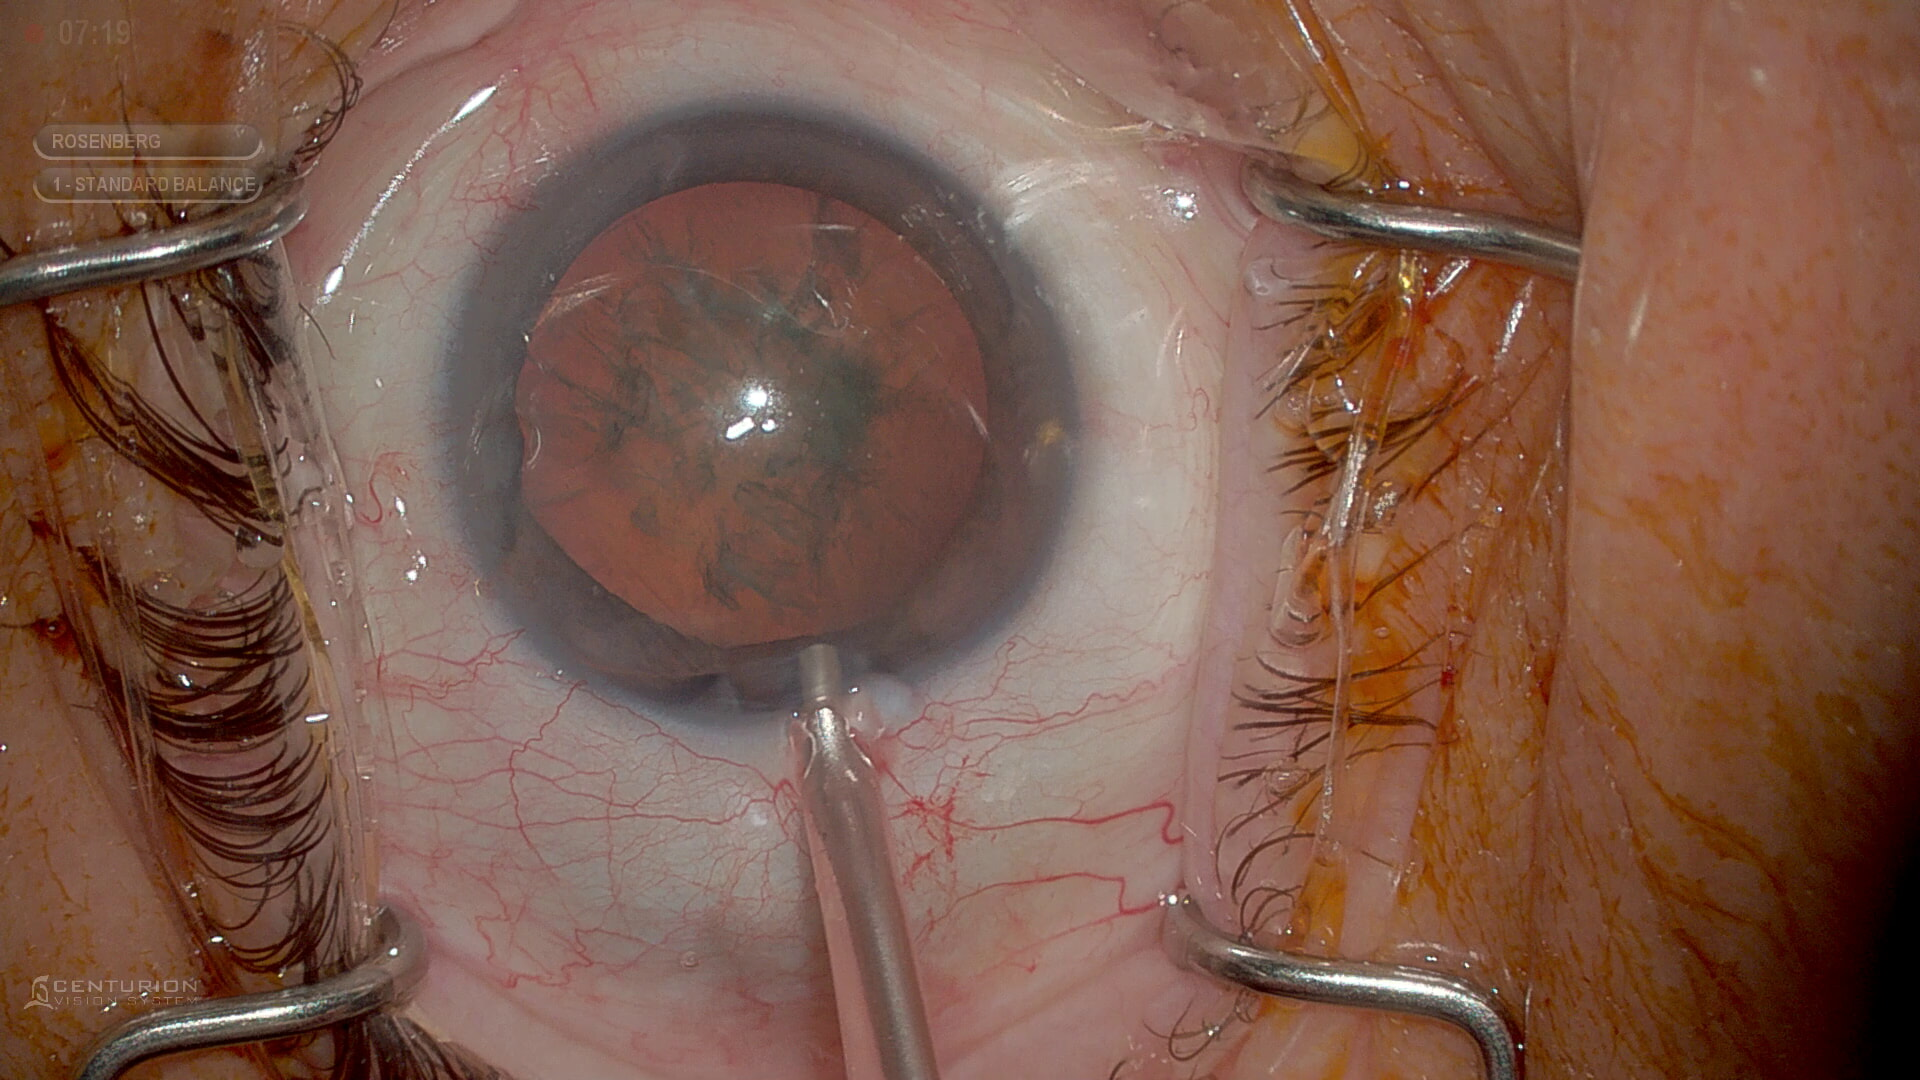iris: (442, 114, 1089, 714)
pupil: (510, 180, 998, 653)
